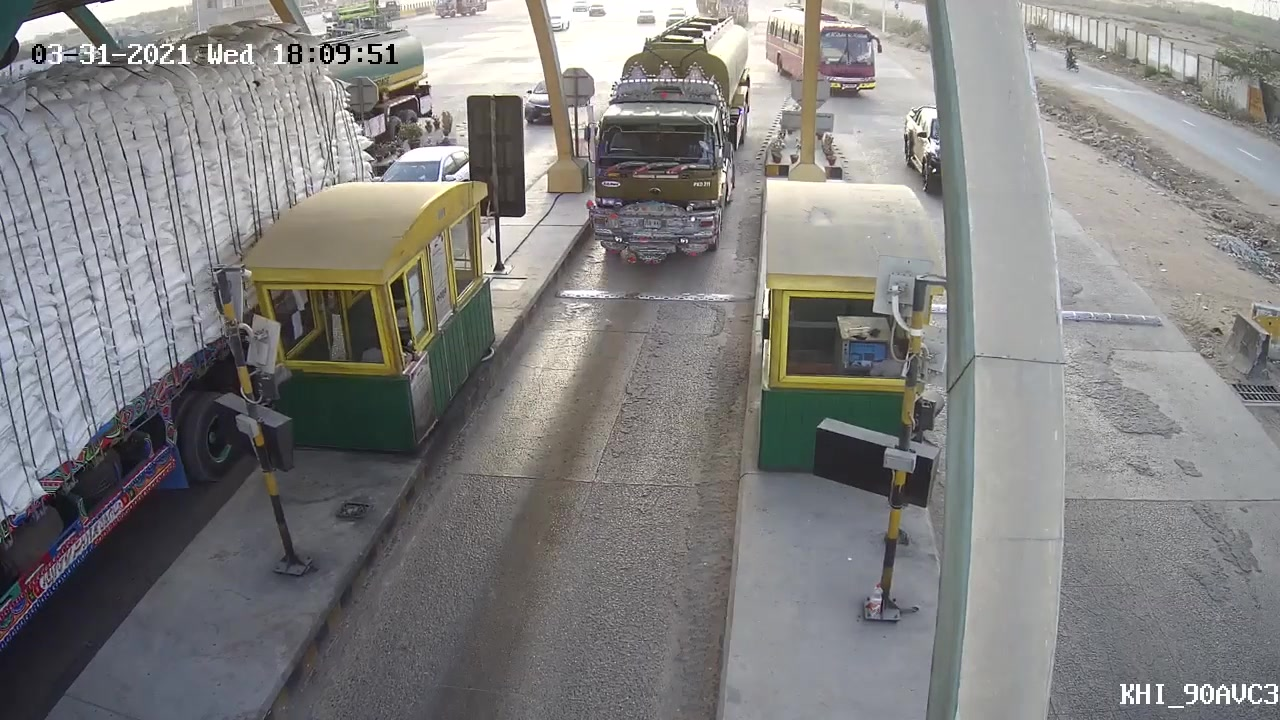F6: (573, 13, 760, 270)
